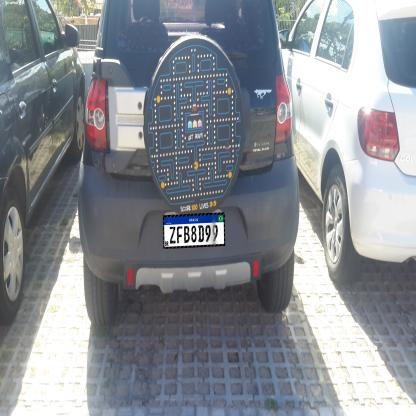PlacaM: (163, 212, 225, 249)
